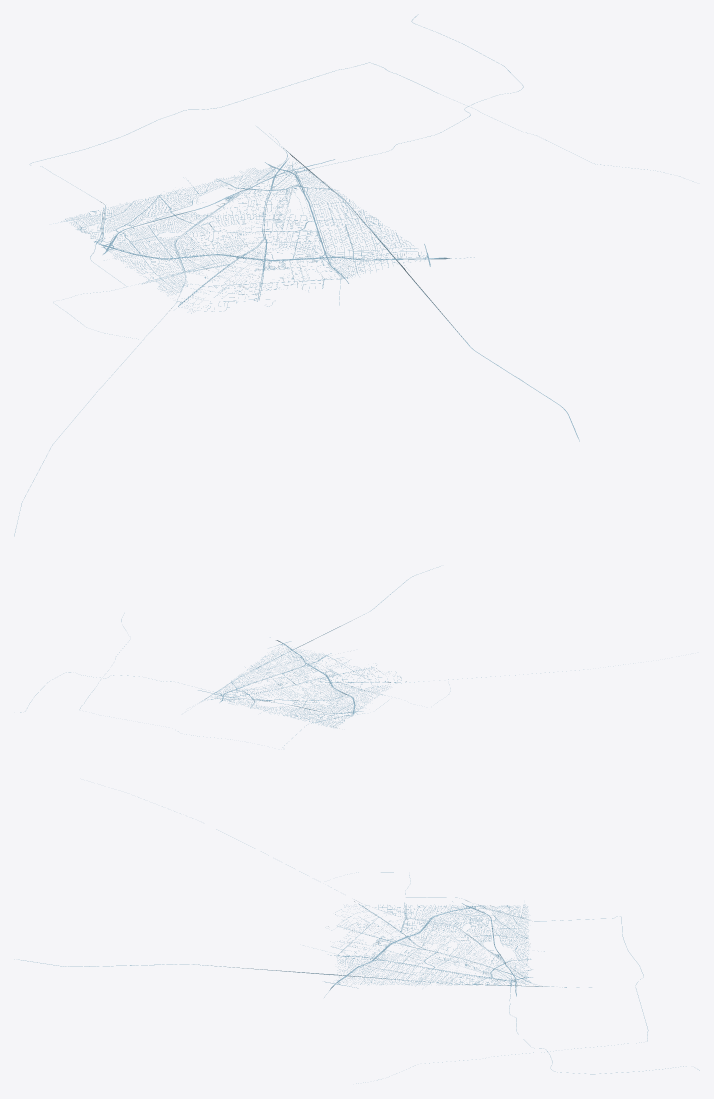
The model's file is roads.glb.
3 renders of one model, top to bottom at view 1: azimuth 30°, elevation 25°; view 2: azimuth 150°, elevation 25°; view 3: azimuth 270°, elevation 25°, orthographic. The views are drawn at different scales.
Parts seen in each view (by area): view 1: roads; view 2: roads; view 3: roads.
Boxes of the visible parts, x1,y1,x2,y2 form: roads: (14,14,693,536); roads: (20,566,633,747); roads: (14,797,699,1083).
Size of the model in its own units: 24470 by 98.58 by 23198.
